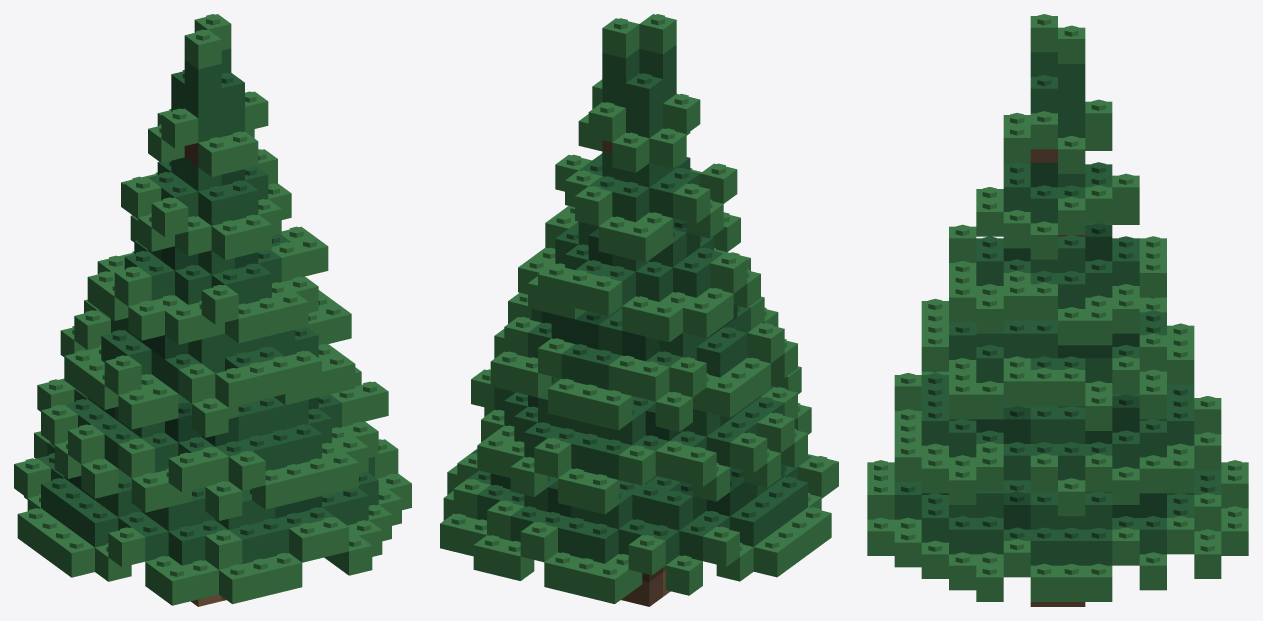
File: Tree_Pine.fbx
3 views of the same model, side by side, from view 1: azimuth 30°, elevation 25°; view 2: azimuth 150°, elevation 25°; view 3: azimuth 270°, elevation 25° (orthographic).
Parts seen in each view (by area): view 1: Tree_Pine_PineLight, Tree_Pine_Pine, Tree_Pine_PineDark; view 2: Tree_Pine_PineLight, Tree_Pine_Pine, Tree_Pine_PineDark, Tree_Pine_Bark; view 3: Tree_Pine_PineLight, Tree_Pine_Pine, Tree_Pine_PineDark, Tree_Pine_Bark.
Boxes of the visible parts, <box> form: Tree_Pine_PineLight: <box>14,14,411,605</box>; Tree_Pine_Pine: <box>38,48,378,565</box>; Tree_Pine_PineDark: <box>64,169,321,518</box>; Tree_Pine_PineLight: <box>440,14,838,603</box>; Tree_Pine_Pine: <box>468,44,811,564</box>; Tree_Pine_PineDark: <box>490,218,757,520</box>; Tree_Pine_Bark: <box>602,140,674,606</box>; Tree_Pine_PineLight: <box>867,14,1248,601</box>; Tree_Pine_Pine: <box>894,52,1221,565</box>; Tree_Pine_PineDark: <box>921,162,1166,529</box>; Tree_Pine_Bark: <box>1030,149,1085,606</box>.
Size of the model in its own units: 14 by 23.18 by 14.
